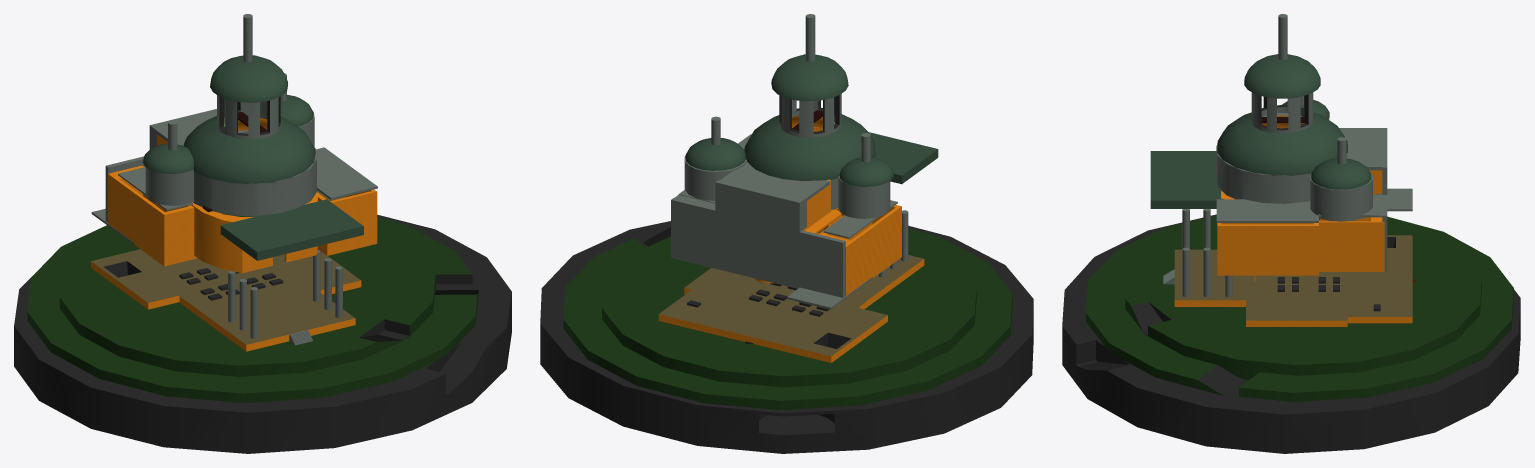
The model's file is Full Ruins2.fbx.glb.
3 renders of one model, left to right at view 1: azimuth 30°, elevation 25°; view 2: azimuth 150°, elevation 25°; view 3: azimuth 270°, elevation 25°, orthographic. The views are drawn at different scales.
Parts seen in each view (by area): view 1: GreenGround Mesh (1).11, GreyGround Mesh (3).12, COLUMN Mesh (5).15, ROOFING Mesh (3).17, BeigeFloor Mesh (3).9, Wall Mesh (1).2, ROOFING Mesh (1).5, COLUMN Mesh (3).10, Wall Mesh (3).8, GreyGround Mesh (5).18; view 2: GreenGround Mesh (1).11, GreyGround Mesh (3).12, COLUMN Mesh (5).15, ROOFING Mesh (3).17, BeigeFloor Mesh (3).9, Wall Mesh (1).2, Wall Mesh (3).8, ROOFING Mesh (1).5, Wall Mesh (5).14, COLUMN Mesh (3).10, GreyGround Mesh (5).18; view 3: GreenGround Mesh (1).11, GreyGround Mesh (3).12, COLUMN Mesh (5).15, BeigeFloor Mesh (3).9, ROOFING Mesh (3).17, Wall Mesh (1).2, ROOFING Mesh (1).5, COLUMN Mesh (3).10, Wall Mesh (3).8.
Boxes of the visible parts, x1,y1,x2,y2 form: GreenGround Mesh (1).11: (27, 213, 478, 402); GreyGround Mesh (3).12: (14, 214, 511, 453); COLUMN Mesh (5).15: (105, 14, 377, 222); ROOFING Mesh (3).17: (143, 55, 315, 183); BeigeFloor Mesh (3).9: (91, 249, 360, 344); Wall Mesh (1).2: (107, 165, 377, 273); ROOFING Mesh (1).5: (220, 199, 363, 260); COLUMN Mesh (3).10: (91, 208, 342, 345); Wall Mesh (3).8: (91, 261, 361, 351); GreyGround Mesh (5).18: (219, 96, 280, 135); GreenGround Mesh (1).11: (563, 228, 1012, 409); GreyGround Mesh (3).12: (540, 221, 1033, 453); COLUMN Mesh (5).15: (671, 14, 897, 297); ROOFING Mesh (3).17: (685, 54, 893, 186); BeigeFloor Mesh (3).9: (659, 255, 923, 356); Wall Mesh (1).2: (754, 205, 901, 296); Wall Mesh (3).8: (658, 259, 924, 362); ROOFING Mesh (1).5: (869, 132, 938, 184); Wall Mesh (5).14: (792, 115, 844, 233); COLUMN Mesh (3).10: (787, 210, 908, 309); GreyGround Mesh (5).18: (779, 95, 839, 133); GreenGround Mesh (1).11: (1086, 215, 1513, 401); GreyGround Mesh (3).12: (1062, 214, 1520, 453); COLUMN Mesh (5).15: (1216, 14, 1387, 271); BeigeFloor Mesh (3).9: (1174, 235, 1412, 320); ROOFING Mesh (3).17: (1217, 54, 1371, 189); Wall Mesh (1).2: (1217, 190, 1384, 281); ROOFING Mesh (1).5: (1150, 151, 1220, 208); COLUMN Mesh (3).10: (1163, 188, 1412, 296); Wall Mesh (3).8: (1174, 300, 1412, 326).
Size of the model in its own units: 136 by 105 by 128.
Materials: 17 (4 with a texture image).
